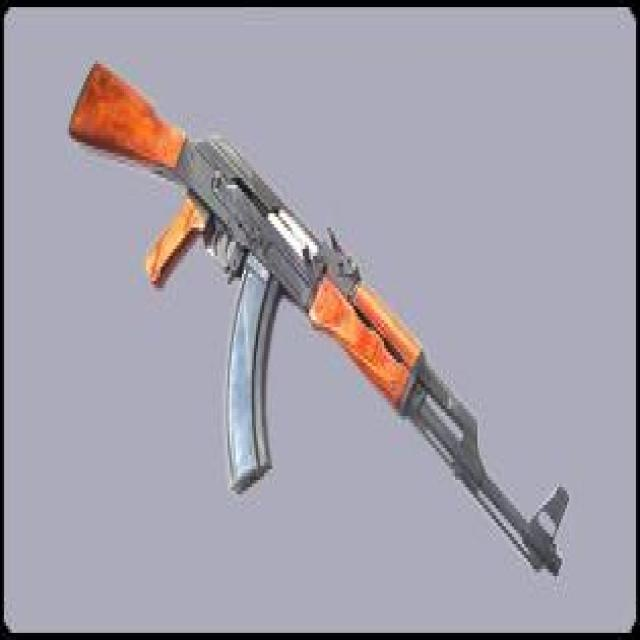Gun: (64, 39, 562, 582)
